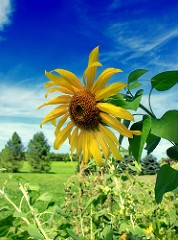flower: (36, 41, 144, 167)
